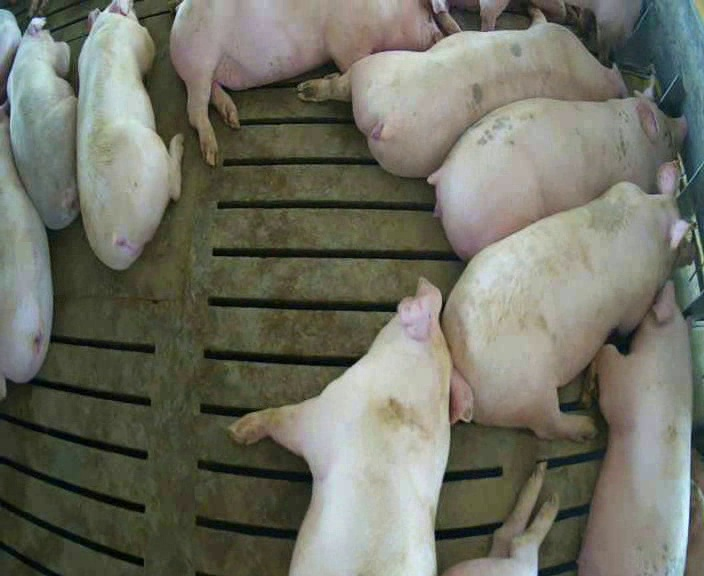pig: (229, 279, 473, 574), (298, 7, 626, 176), (428, 84, 686, 257), (170, 2, 441, 165), (578, 281, 691, 574), (77, 2, 182, 269), (8, 17, 78, 228)
